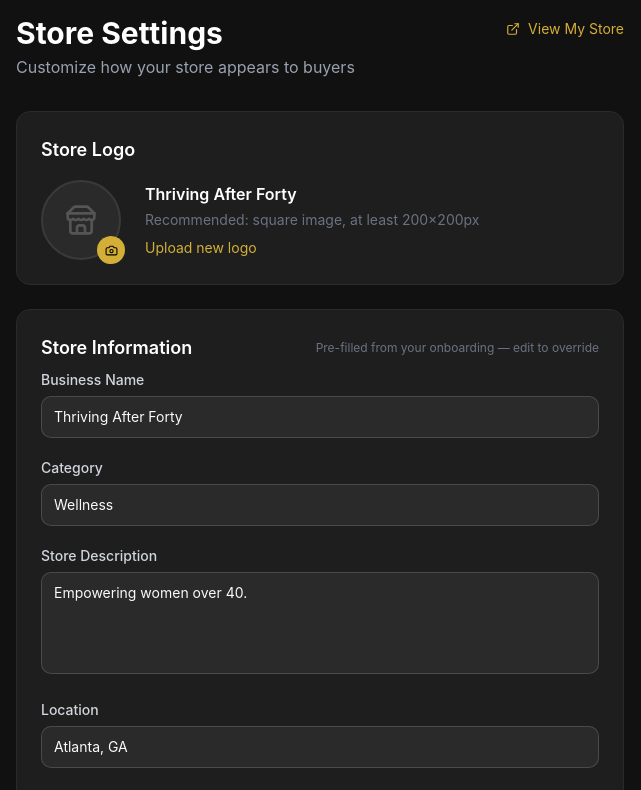
Test case: VendorSettingsPage › clears the unload warning after store changes are saved
Replace the text in the text box showing "Empowering women over 40." with "Saved update": (320, 623) [41,572,599,674]
(page scrolled)
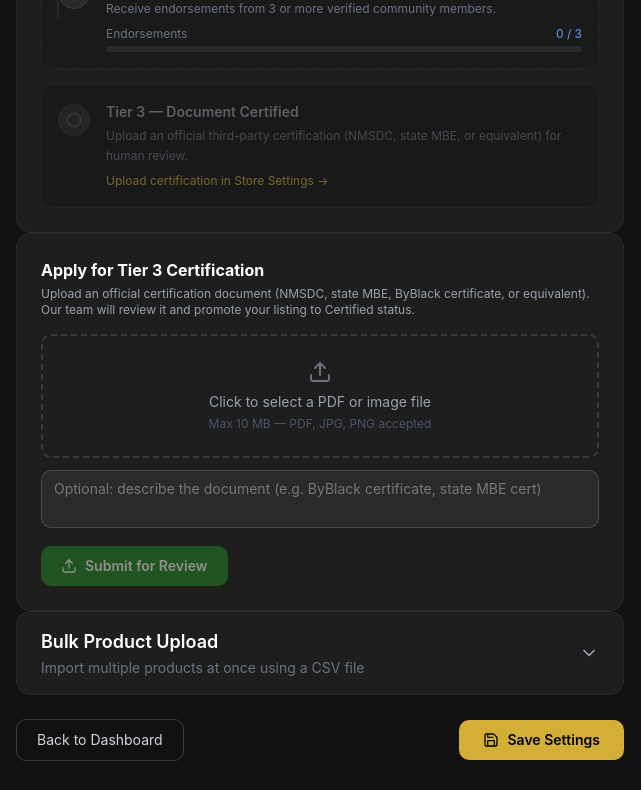
Click the button "Save Settings": (542, 740) [460,720,624,760]
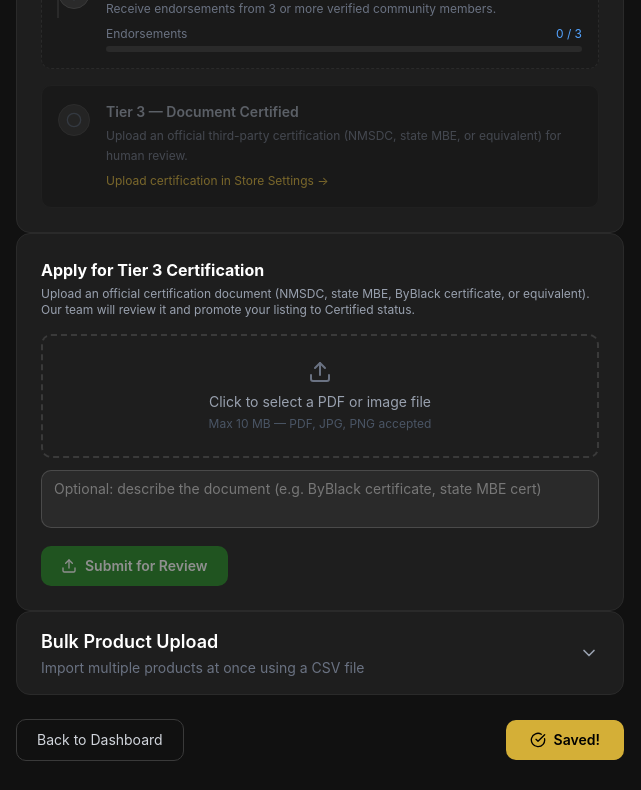
Check: the button "Saved!" is shown, box [506,720,624,760]
